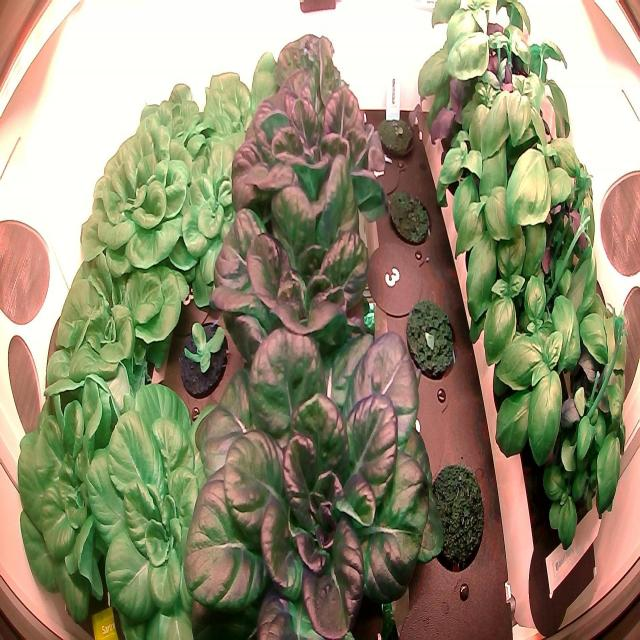Ready: (170, 301, 450, 640), (202, 159, 409, 385), (14, 370, 132, 628), (224, 71, 389, 240), (39, 243, 191, 412), (76, 117, 200, 265), (259, 23, 369, 152), (130, 76, 210, 188)
germination: (374, 101, 422, 166)
pod: (423, 455, 486, 577), (398, 290, 465, 388), (384, 181, 436, 256)
young: (84, 376, 233, 640), (166, 128, 264, 305), (188, 50, 288, 172), (176, 311, 231, 406)
